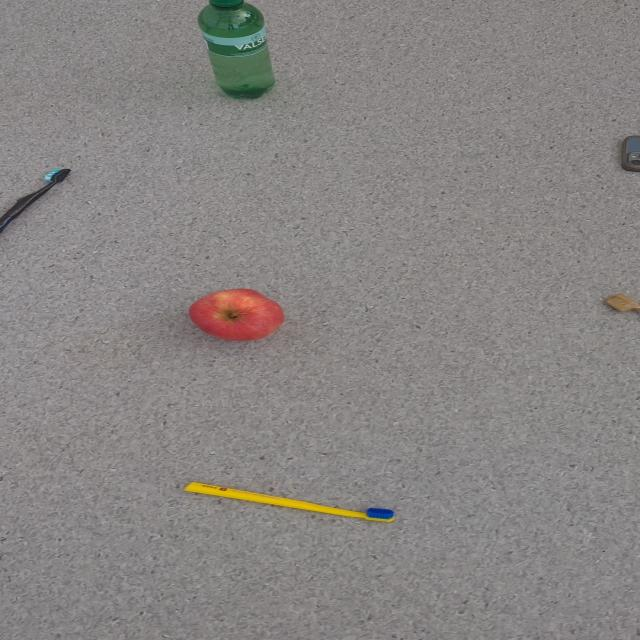apple: (188, 288, 284, 341)
bottle: (196, 0, 275, 99)
phone: (620, 135, 639, 172)
toothbrush: (182, 481, 396, 523), (0, 168, 71, 232)
